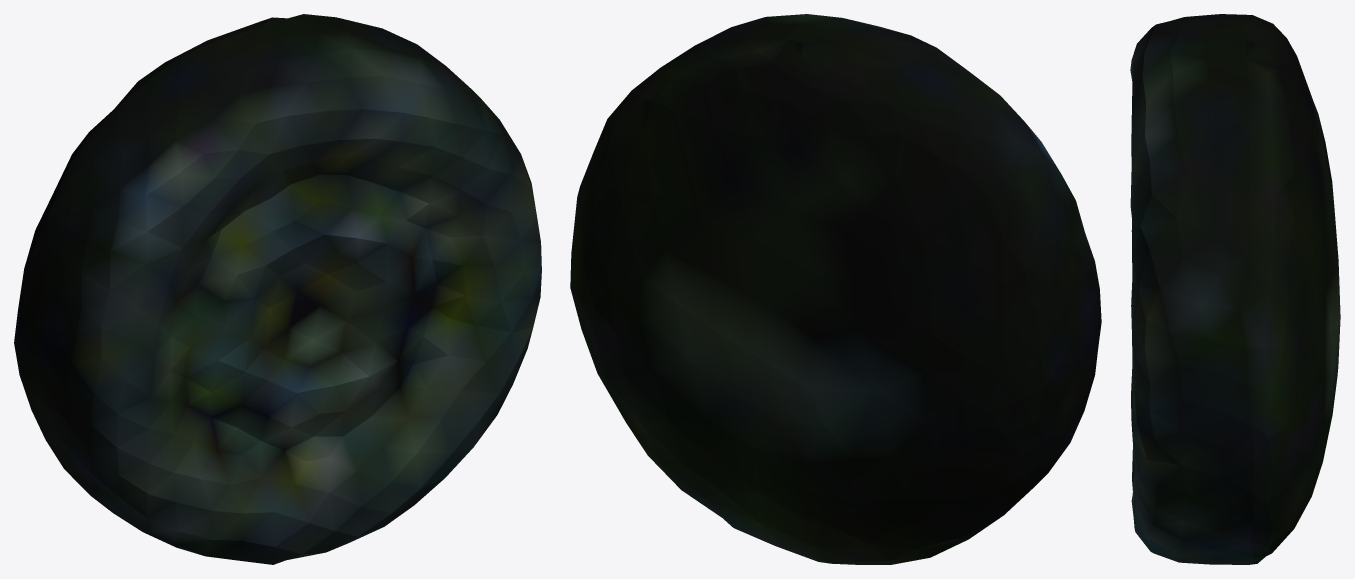
File: vw-tire.dae
3 views of the same model, side by side, from view 1: azimuth 30°, elevation 25°; view 2: azimuth 150°, elevation 25°; view 3: azimuth 270°, elevation 25° (orthographic). The views are drawn at different scales.
Visible parts, largest first — view 1: node; view 2: node; view 3: node.
Boxes of the visible parts, x1=… form: node: x1=14, y1=14, x2=541, y2=564; node: x1=570, y1=14, x2=1101, y2=564; node: x1=1130, y1=14, x2=1340, y2=564.
Size of the model in its own units: 0.6814 by 0.6851 by 0.2598.
